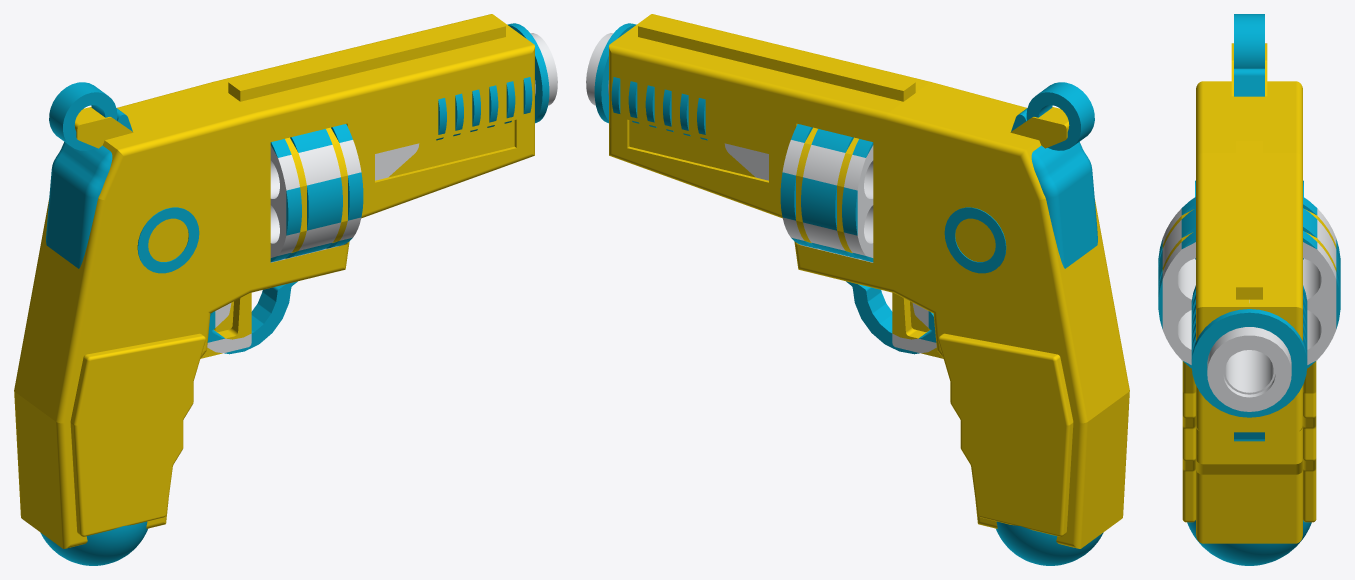
The picture shows the model from 3 angles, left to right: view 1: azimuth 30°, elevation 25°; view 2: azimuth 150°, elevation 25°; view 3: azimuth 270°, elevation 25°; orthographic projection. The views are drawn at different scales.
Visible parts, largest first — view 1: =>[0:1:1:116], =>[0:1:1:134], =>[0:1:1:57], =>[0:1:1:27], =>[0:1:1:109], =>[0:1:1:106], =>[0:1:1:61], =>[0:1:1:113], =>[0:1:1:68], =>[0:1:1:139], =>[0:1:1:118], =>[0:1:1:105] (+4 smaller); view 2: =>[0:1:1:116], =>[0:1:1:133], =>[0:1:1:57], =>[0:1:1:27], =>[0:1:1:109], =>[0:1:1:106], =>[0:1:1:60], =>[0:1:1:113], =>[0:1:1:67], =>[0:1:1:139], =>[0:1:1:117], =>[0:1:1:105] (+4 smaller); view 3: =>[0:1:1:116], =>[0:1:1:27], =>[0:1:1:105], =>[0:1:1:55], =>[0:1:1:133], =>[0:1:1:134], =>[0:1:1:29], =>[0:1:1:106], =>[0:1:1:109], =>[0:1:1:108], =>[0:1:1:33], =>[0:1:1:75] (+3 smaller).
Boxes of the visible parts, bbox=[...] form: =>[0:1:1:116]: bbox=[14, 14, 534, 548]; =>[0:1:1:134]: bbox=[70, 333, 205, 536]; =>[0:1:1:57]: bbox=[46, 142, 112, 268]; =>[0:1:1:27]: bbox=[270, 140, 361, 257]; =>[0:1:1:109]: bbox=[49, 82, 117, 150]; =>[0:1:1:106]: bbox=[40, 521, 147, 565]; =>[0:1:1:61]: bbox=[137, 207, 199, 273]; =>[0:1:1:113]: bbox=[224, 281, 297, 354]; =>[0:1:1:68]: bbox=[307, 177, 342, 230]; =>[0:1:1:139]: bbox=[74, 107, 133, 148]; =>[0:1:1:118]: bbox=[148, 218, 188, 261]; =>[0:1:1:105]: bbox=[507, 23, 549, 123]; =>[0:1:1:116]: bbox=[609, 14, 1129, 548]; =>[0:1:1:133]: bbox=[938, 333, 1073, 536]; =>[0:1:1:57]: bbox=[1031, 142, 1097, 268]; =>[0:1:1:27]: bbox=[782, 140, 873, 257]; =>[0:1:1:109]: bbox=[1026, 82, 1094, 150]; =>[0:1:1:106]: bbox=[996, 521, 1103, 565]; =>[0:1:1:60]: bbox=[944, 207, 1006, 273]; =>[0:1:1:113]: bbox=[846, 281, 919, 354]; =>[0:1:1:67]: bbox=[801, 177, 836, 230]; =>[0:1:1:139]: bbox=[1010, 107, 1069, 148]; =>[0:1:1:117]: bbox=[955, 218, 995, 261]; =>[0:1:1:105]: bbox=[594, 23, 636, 123]; =>[0:1:1:116]: bbox=[1196, 81, 1302, 543]; =>[0:1:1:27]: bbox=[1162, 208, 1336, 364]; =>[0:1:1:105]: bbox=[1191, 309, 1307, 417]; =>[0:1:1:55]: bbox=[1207, 334, 1291, 411]; =>[0:1:1:133]: bbox=[1303, 361, 1316, 522]; =>[0:1:1:134]: bbox=[1182, 361, 1195, 522]; =>[0:1:1:29]: bbox=[1223, 350, 1275, 394]; =>[0:1:1:106]: bbox=[1187, 520, 1311, 565]; =>[0:1:1:109]: bbox=[1234, 14, 1264, 68]; =>[0:1:1:108]: bbox=[1234, 68, 1264, 96]; =>[0:1:1:33]: bbox=[1207, 327, 1291, 368]; =>[0:1:1:75]: bbox=[1303, 208, 1317, 237].
Size of the model in its own units: 148 by 133 by 40.87.
